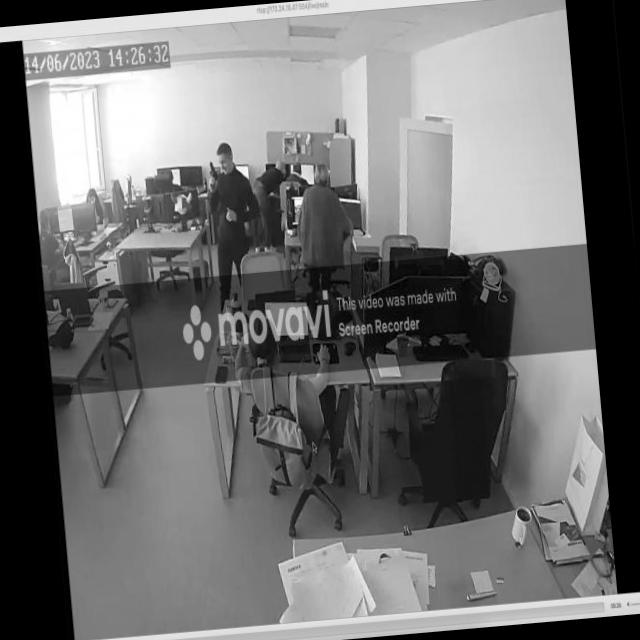gun: (206, 158, 216, 186)
person with a gun: (202, 138, 267, 282)
